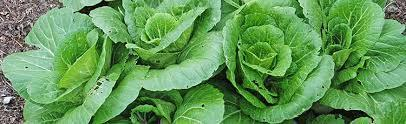Healthy-Pechay: (0, 10, 403, 124), (2, 13, 402, 122), (90, 64, 147, 124), (2, 49, 63, 105), (90, 5, 131, 45), (188, 0, 224, 36), (28, 18, 59, 54), (298, 0, 328, 37), (242, 25, 281, 52), (145, 13, 177, 43), (59, 1, 115, 14), (0, 82, 19, 113), (353, 4, 373, 31), (386, 1, 406, 23), (270, 5, 298, 19), (129, 63, 150, 79), (86, 27, 99, 47), (172, 4, 189, 17), (222, 0, 242, 11), (15, 21, 27, 34), (24, 7, 34, 16), (0, 35, 6, 43)
